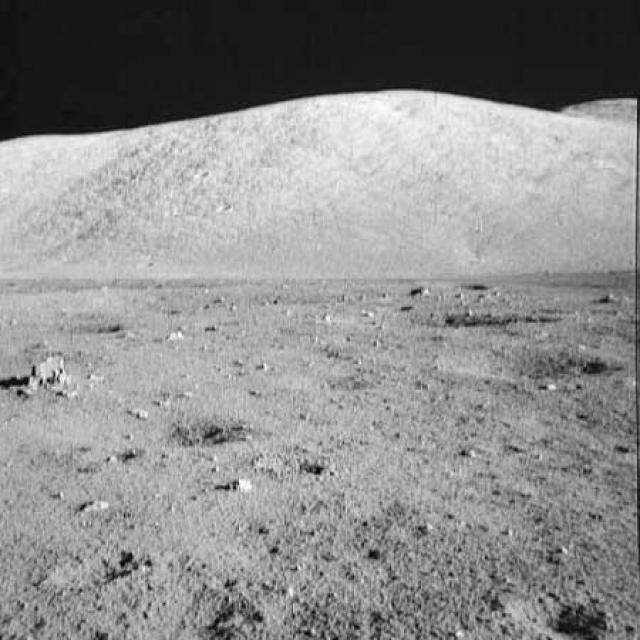crater: (449, 342, 616, 378), (402, 300, 544, 328), (157, 418, 260, 446)
rock: (16, 353, 81, 404), (219, 470, 260, 492), (78, 494, 111, 515)
